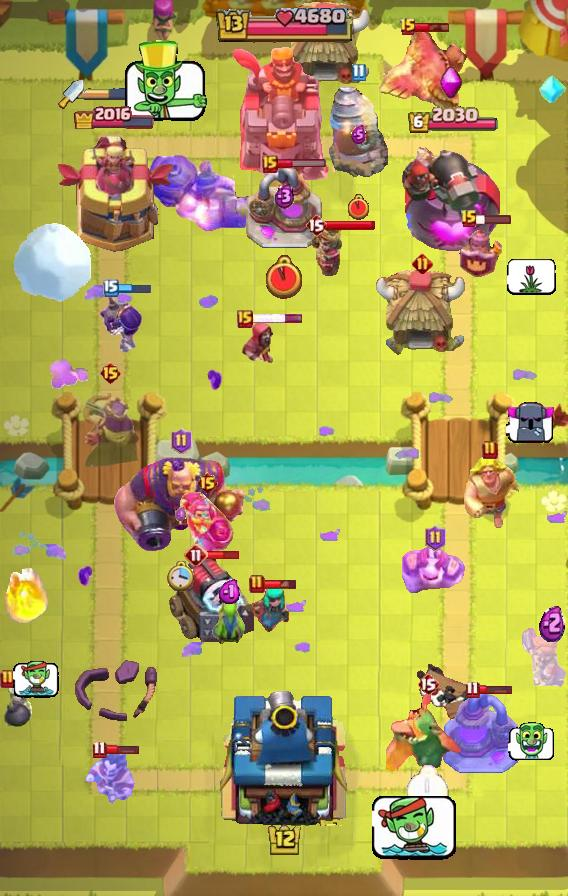bar: (52, 132, 176, 256)
barbarian-hut: (77, 389, 143, 471)
bomber-evolution: (311, 224, 345, 276)
bowler: (241, 320, 277, 366)
clock: (214, 7, 354, 45)
electro-spirit: (539, 604, 565, 642), (218, 579, 242, 605), (273, 183, 295, 209), (351, 125, 366, 144), (175, 507, 187, 522)
electro-wizard: (386, 685, 470, 771)
elixir: (407, 765, 449, 813), (266, 255, 302, 299), (167, 561, 195, 593), (348, 194, 369, 220)
elixir-golem-small: (402, 542, 468, 596)
emote: (324, 219, 376, 231), (252, 313, 305, 324), (276, 159, 327, 170), (415, 21, 451, 33), (476, 213, 512, 225), (116, 282, 151, 294), (206, 549, 241, 561), (263, 578, 298, 590), (478, 683, 513, 695), (105, 745, 140, 756)
firecracker-evolution: (180, 490, 234, 553)
goblin-ball: (98, 287, 142, 353)
goblin-hut: (462, 455, 518, 528)
golem: (168, 552, 254, 642)
ice-golem: (0, 677, 34, 731)
king-tower: (214, 684, 354, 826), (230, 45, 338, 181)
king-tower-bar: (84, 87, 156, 101)
lightning: (113, 455, 249, 553)
lumberjack: (83, 752, 135, 806)
magic-archer: (328, 86, 388, 178)
mother-witch: (375, 27, 471, 121)
pad_2: (538, 72, 566, 106)
pekka: (245, 168, 323, 250), (443, 693, 521, 775)
prince: (280, 0, 374, 90), (375, 268, 469, 358)
princess: (458, 220, 506, 280)
selected: (407, 106, 499, 135), (72, 103, 155, 129)
skeleton: (121, 40, 211, 126), (372, 792, 459, 863), (506, 401, 556, 445), (509, 722, 556, 762), (508, 258, 557, 295), (13, 662, 59, 699)
skeleton-king-skill: (439, 66, 463, 100)
tesla-evolution: (520, 628, 568, 688)
text: (184, 543, 208, 567), (99, 361, 122, 385), (196, 471, 219, 495), (172, 428, 193, 454), (426, 525, 447, 551), (305, 213, 327, 237), (417, 672, 439, 696), (412, 253, 433, 275), (399, 17, 417, 37), (460, 209, 478, 229), (482, 440, 498, 460), (249, 574, 265, 594), (0, 669, 16, 689), (262, 155, 278, 173), (103, 279, 119, 297), (237, 310, 253, 328), (92, 741, 107, 760), (351, 63, 366, 81), (465, 680, 479, 699)
tower-bar: (402, 136, 504, 256)
valkyrie: (0, 560, 50, 626)
wall-breaker: (11, 221, 93, 303)
witch: (248, 585, 292, 635)
wizard: (145, 154, 269, 232)
zap: (210, 595, 250, 647)
